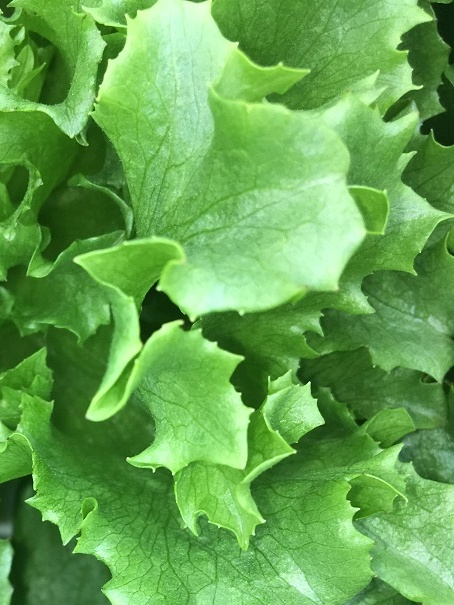tipburn: (298, 280, 314, 293)
